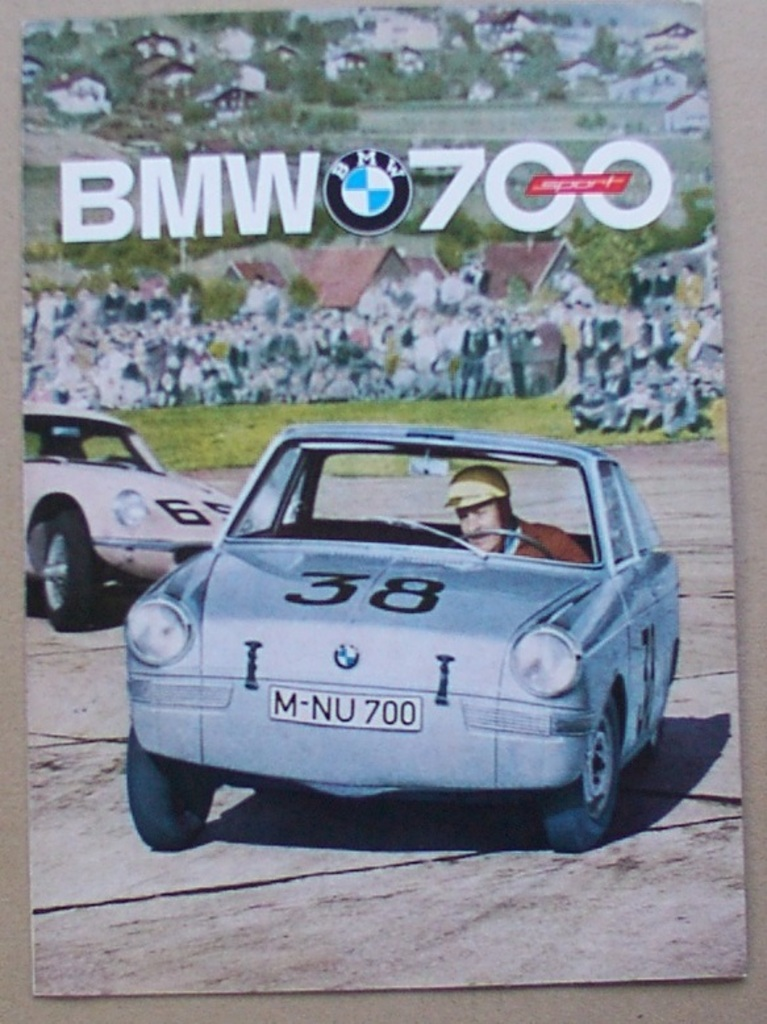Car: (123, 418, 677, 856), (22, 404, 232, 629)
